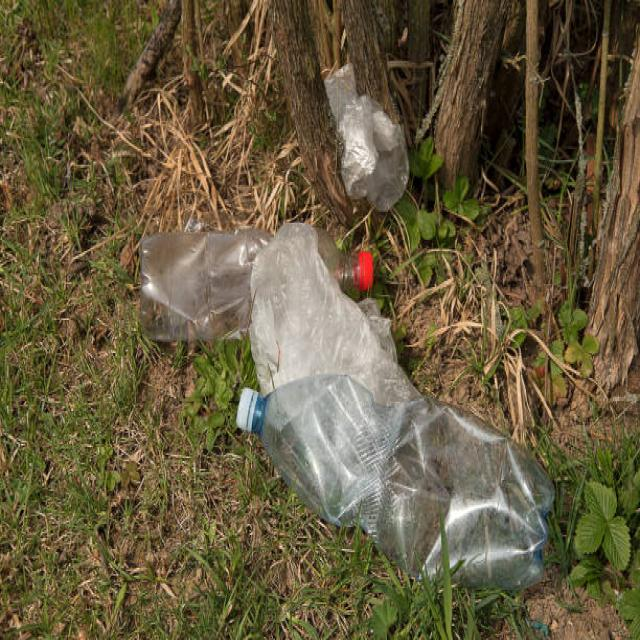plastic: (165, 220, 530, 585)
